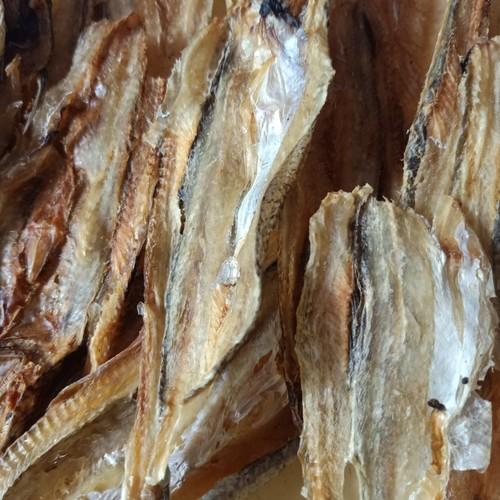sudang lepet: (176, 4, 305, 458), (306, 169, 447, 500), (35, 13, 141, 416)
